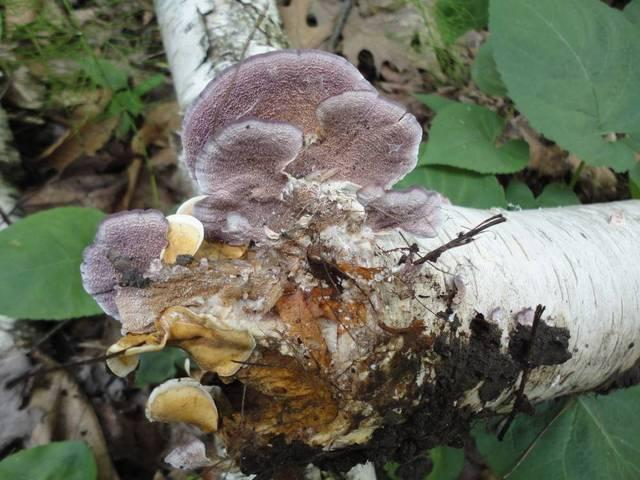poisonous_mushroom: (78, 212, 301, 461), (178, 46, 425, 248)
